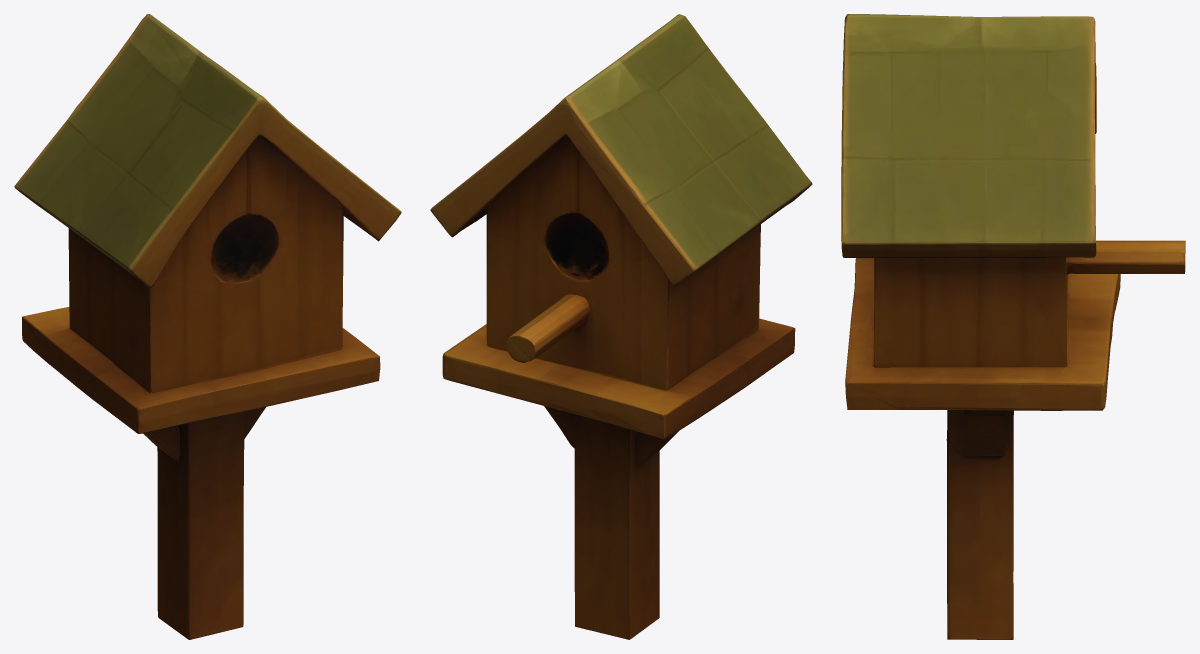
File: birdhouse.glb
The picture shows the model from 3 angles, left to right: view 1: azimuth 30°, elevation 25°; view 2: azimuth 150°, elevation 25°; view 3: azimuth 270°, elevation 25°; orthographic projection. The views are drawn at different scales.
Parts seen in each view (by area): view 1: world; view 2: world; view 3: world.
Part boxes in pixels (x1,y1,x2,y2): world: (14,14,401,639); world: (430,14,812,639); world: (841,14,1185,639).
Size of the model in its own units: 0.4965 by 1 by 0.5124.
Materials: 1 (1 with a texture image).
